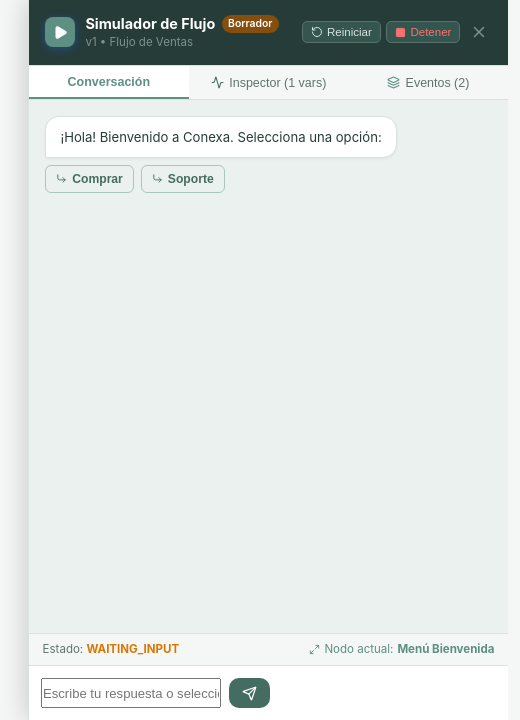
it: FlowSimulatorDrawer Component › allows clicking an option button to step the simulation
The image size is (520, 720).
Click the button "Comprar". click: [90, 179]
box: x1=45 y1=165 x2=134 y2=192
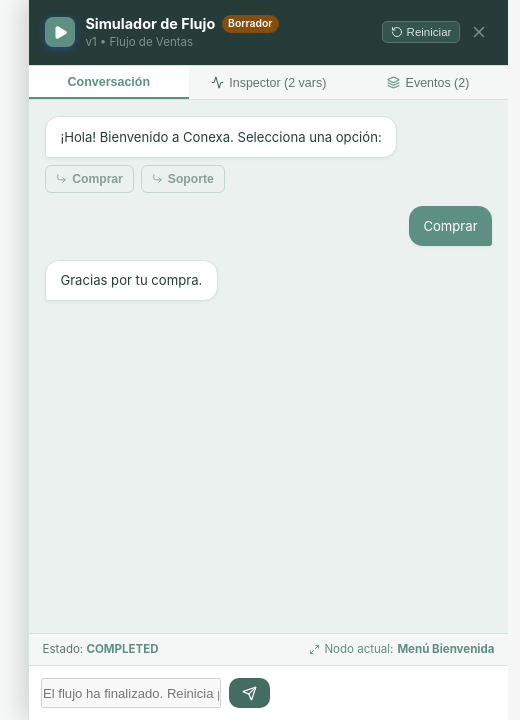
Expected: the text "Gracias por tu compra." is shown, x1=60 y1=271 x2=202 y2=290
